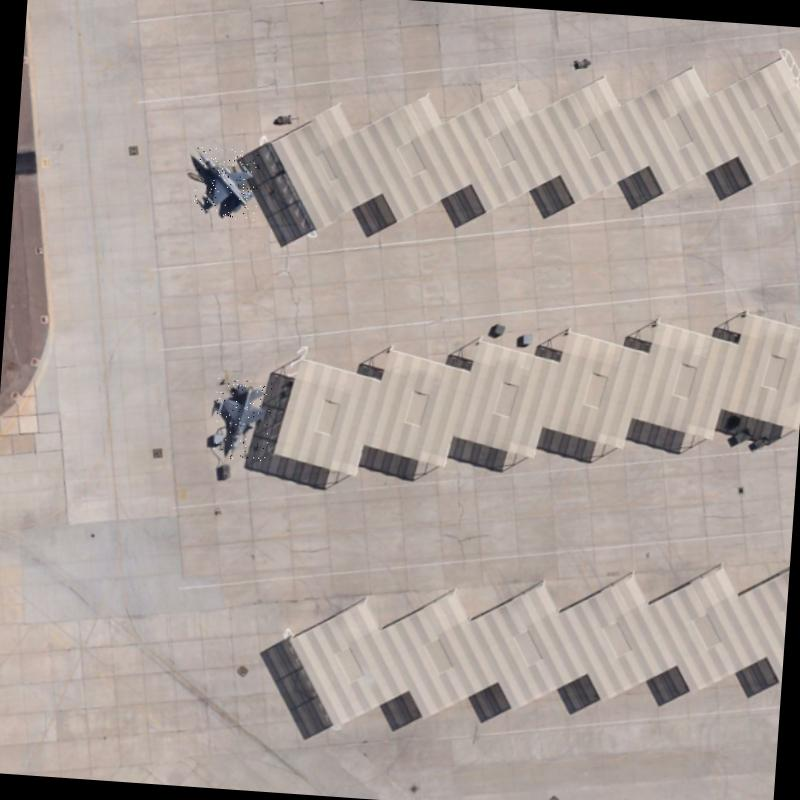A5: (190, 146, 260, 220), (212, 377, 272, 461)
